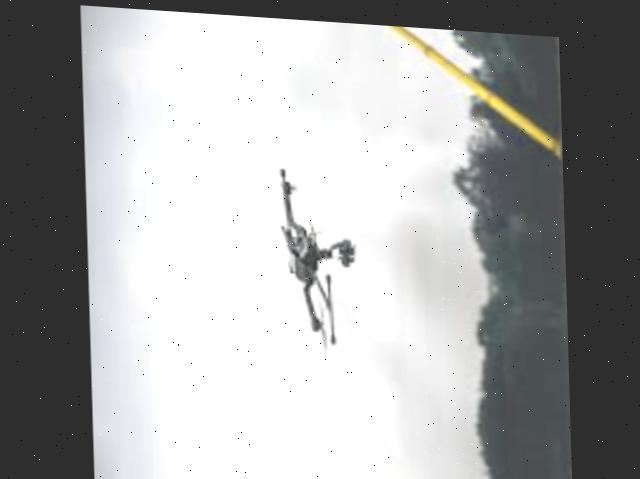drone: (254, 154, 366, 355)
